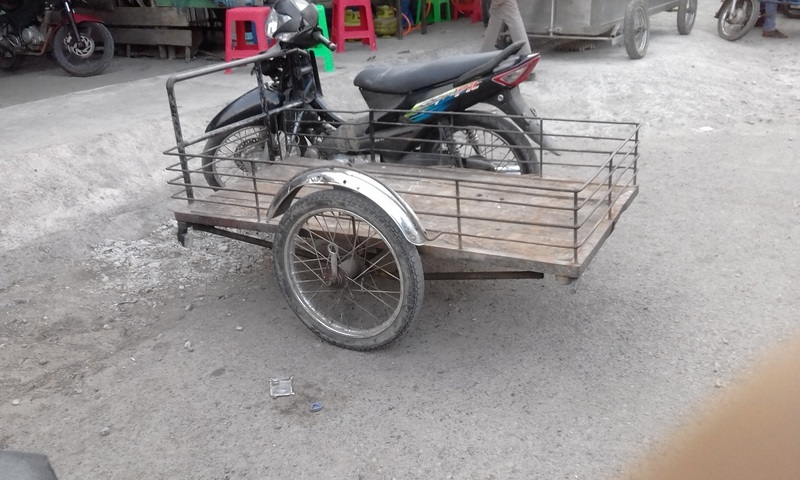becak barang: (160, 1, 644, 358)
